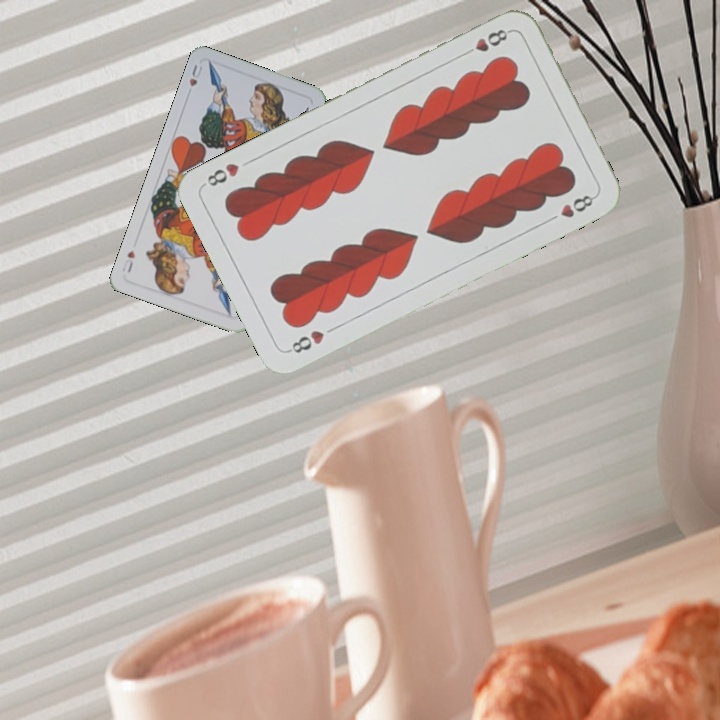H8: (459, 25, 514, 59), (284, 326, 327, 356)
HU: (185, 60, 205, 89)
